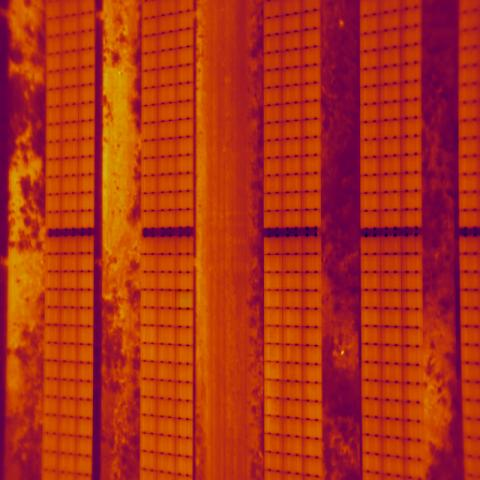fault: (175, 289, 193, 310)
